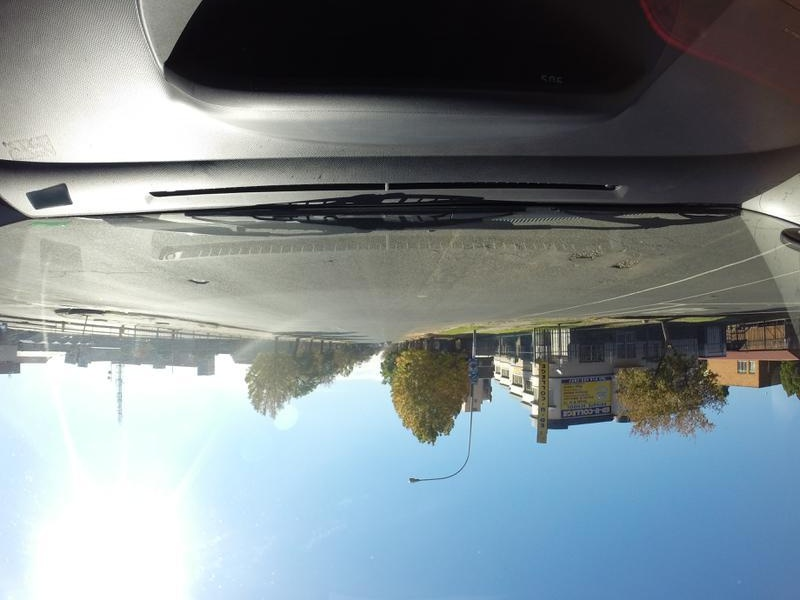pothole: (570, 243, 595, 266), (606, 259, 640, 273), (188, 276, 209, 287)
